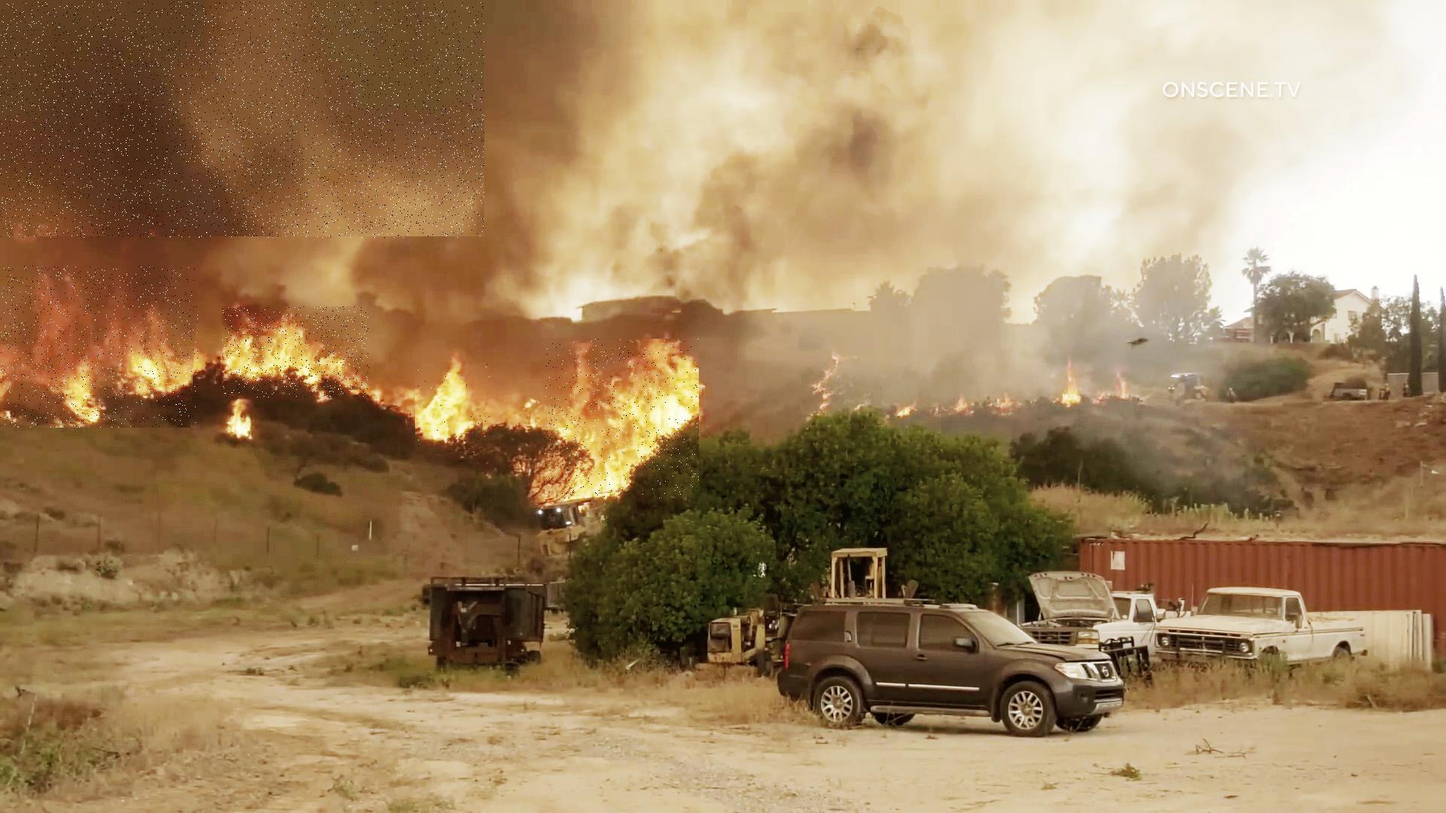fire: (0, 266, 198, 428), (545, 339, 699, 499), (223, 307, 370, 398), (415, 364, 490, 456)
smoke: (0, 2, 484, 238)
